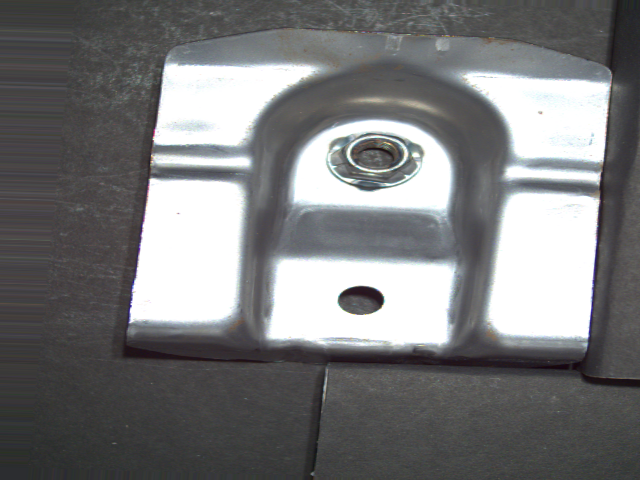good: (324, 129, 429, 193)
